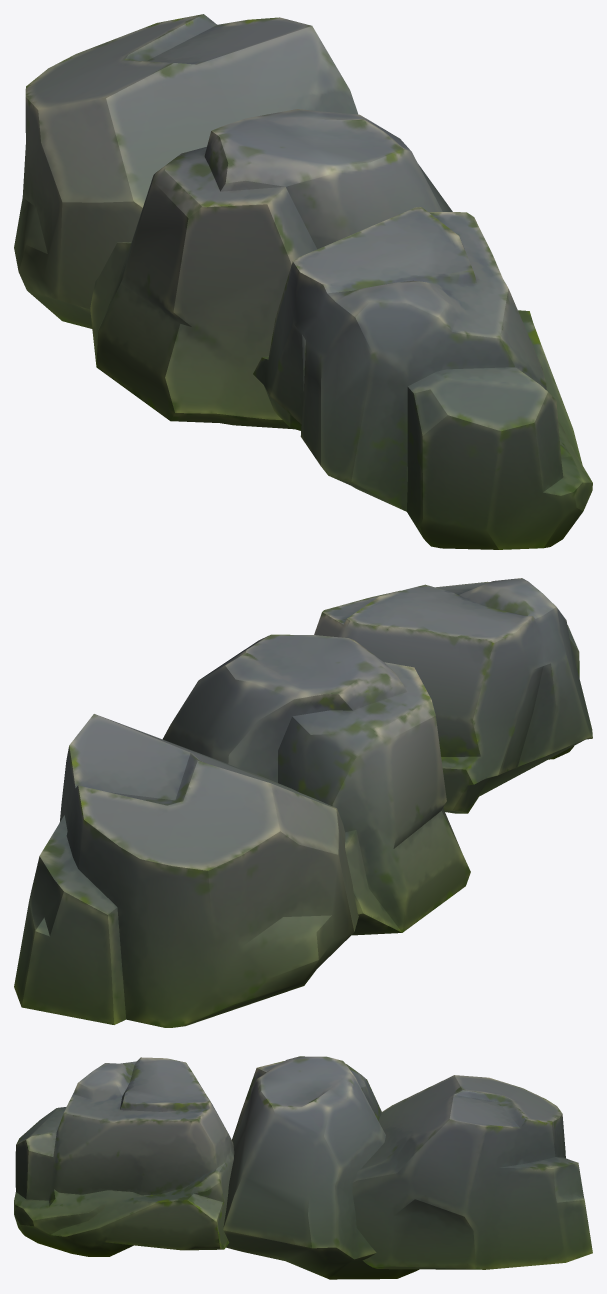
The model's file is Hextilestone_side1.glb.
3 renders of one model, top to bottom at view 1: azimuth 30°, elevation 25°; view 2: azimuth 150°, elevation 25°; view 3: azimuth 270°, elevation 25°, orthographic. The views are drawn at different scales.
Parts seen in each view (by area): view 1: Rock_Medium_3.003, Rock_Medium_1.003, Rock_Medium_2.005; view 2: Rock_Medium_2.005, Rock_Medium_1.003, Rock_Medium_3.003; view 3: Rock_Medium_2.005, Rock_Medium_3.003, Rock_Medium_1.003.
Boxes of the visible parts, x1,y1,x2,y2 form: Rock_Medium_3.003: [253, 207, 592, 549]; Rock_Medium_1.003: [90, 109, 452, 429]; Rock_Medium_2.005: [14, 14, 358, 328]; Rock_Medium_2.005: [14, 714, 358, 1027]; Rock_Medium_1.003: [162, 634, 470, 935]; Rock_Medium_3.003: [314, 578, 592, 813]; Rock_Medium_2.005: [352, 1075, 592, 1269]; Rock_Medium_3.003: [14, 1057, 234, 1256]; Rock_Medium_1.003: [223, 1056, 419, 1279].
Size of the model in its own units: 0.4855 by 0.379 by 1.18.
Materials: 3 (3 with a texture image).
